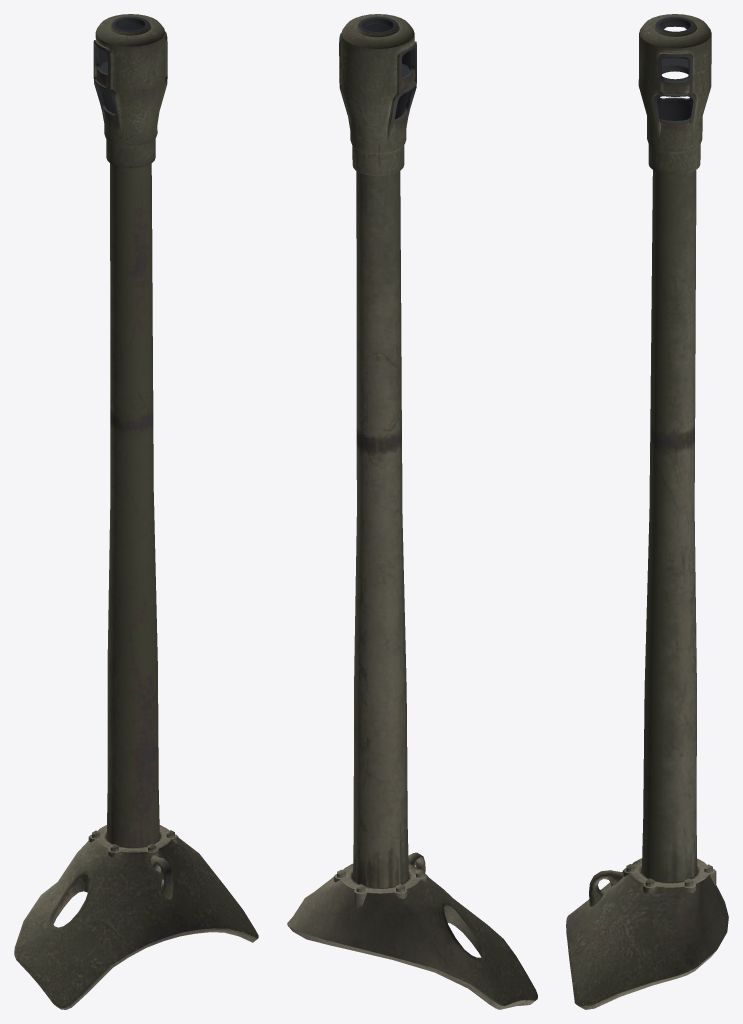
The model's file is Gun_02.glb.
3 views of the same model, side by side, from view 1: azimuth 30°, elevation 25°; view 2: azimuth 150°, elevation 25°; view 3: azimuth 270°, elevation 25° (orthographic). The views are drawn at different scales.
Parts seen in each view (by area): view 1: set_0_group_0; view 2: set_0_group_0; view 3: set_0_group_0.
Boxes of the visible parts, x1,y1,x2,y2 form: set_0_group_0: (14, 14, 258, 1009); set_0_group_0: (287, 14, 537, 1009); set_0_group_0: (566, 14, 728, 1009).
Size of the model in its own units: 0.9804 by 4.31 by 0.6541.
1 material, 1 textured.
